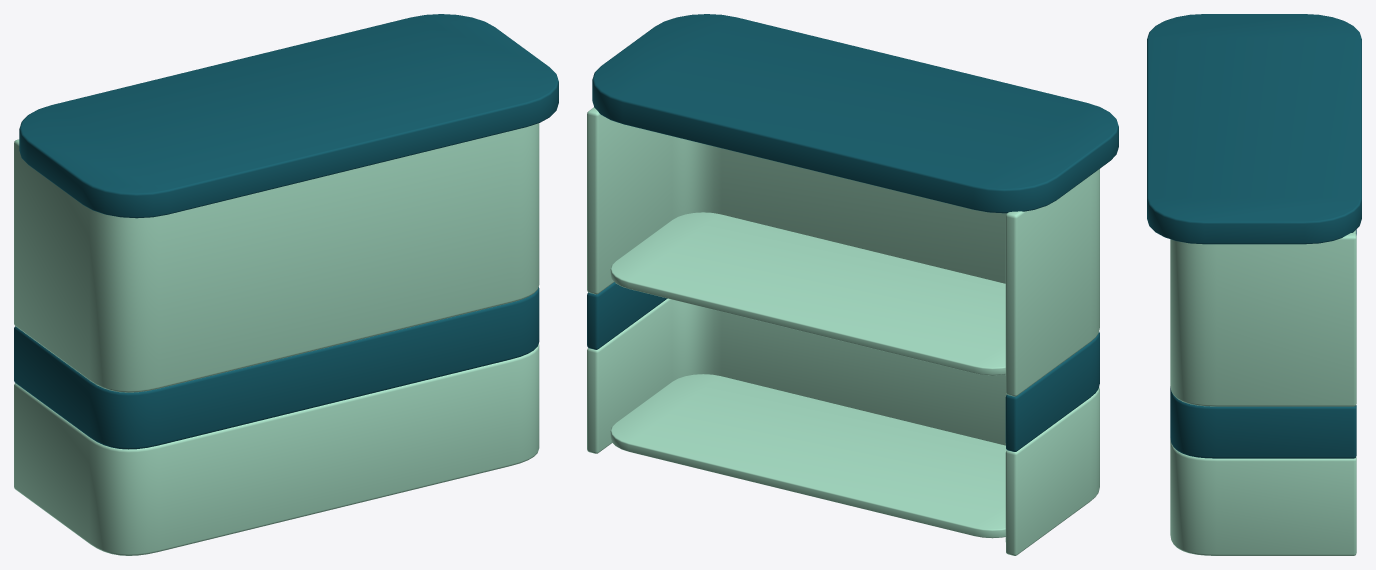
The model's file is balcao_listrado_menta.glb.
The picture shows the model from 3 angles, left to right: view 1: azimuth 30°, elevation 25°; view 2: azimuth 150°, elevation 25°; view 3: azimuth 270°, elevation 25°; orthographic projection. The views are drawn at different scales.
Parts seen in each view (by area): view 1: balcao_listrado_menta; view 2: balcao_listrado_menta; view 3: balcao_listrado_menta.
Boxes of the visible parts, box(x1,y1,x2,y2) form: balcao_listrado_menta: box(14, 14, 558, 555); balcao_listrado_menta: box(587, 14, 1118, 555); balcao_listrado_menta: box(1147, 14, 1361, 555).
Bounding box in the file's own units: 1.38 × 1.05 × 0.6.
1 material, 1 textured.
